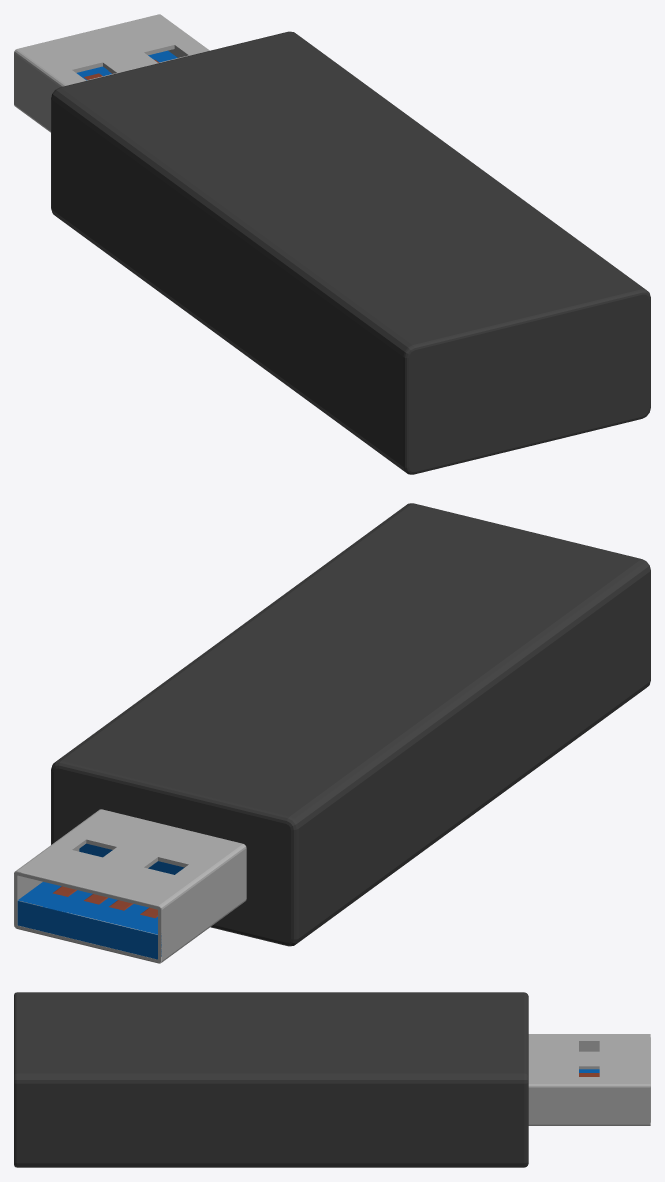
Rendered from USB-Stick.glb.
3 renders of one model, top to bottom at view 1: azimuth 30°, elevation 25°; view 2: azimuth 150°, elevation 25°; view 3: azimuth 270°, elevation 25°, orthographic. The views are drawn at different scales.
Visible parts, largest first — view 1: Cube; view 2: Cube; view 3: Cube.
Boxes of the visible parts, x1,y1,x2,y2 form: Cube: [14, 14, 650, 474]; Cube: [14, 503, 650, 963]; Cube: [14, 992, 650, 1167].
Size of the model in its own units: 0.2 by 0.1 by 0.6189.
